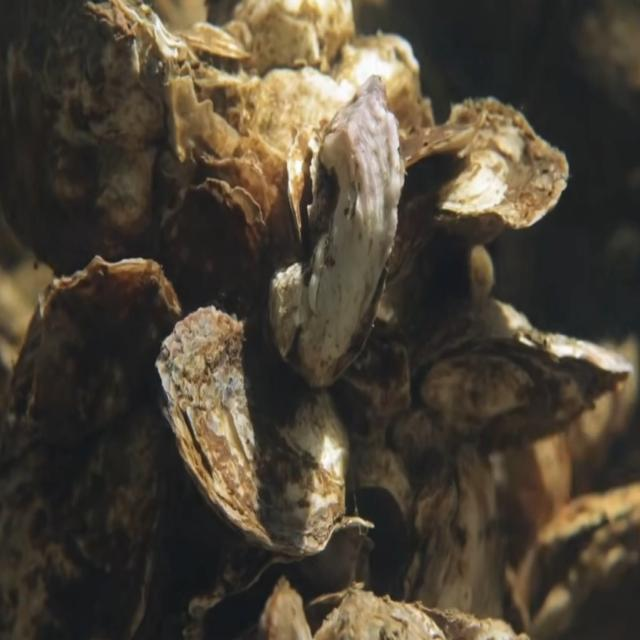Oyster-Closed: (0, 254, 183, 640), (154, 305, 354, 558), (268, 74, 404, 390), (410, 298, 640, 456), (386, 98, 571, 287), (396, 441, 510, 640)
Oyster-Indeterminate: (0, 0, 221, 269), (157, 178, 270, 330)
Oyster-Open: (189, 517, 374, 640), (518, 488, 640, 640)
